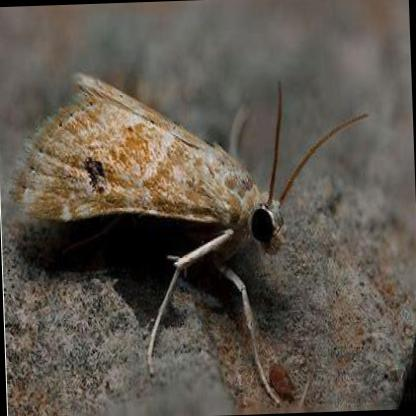Hellula undalis: (2, 69, 374, 397)
